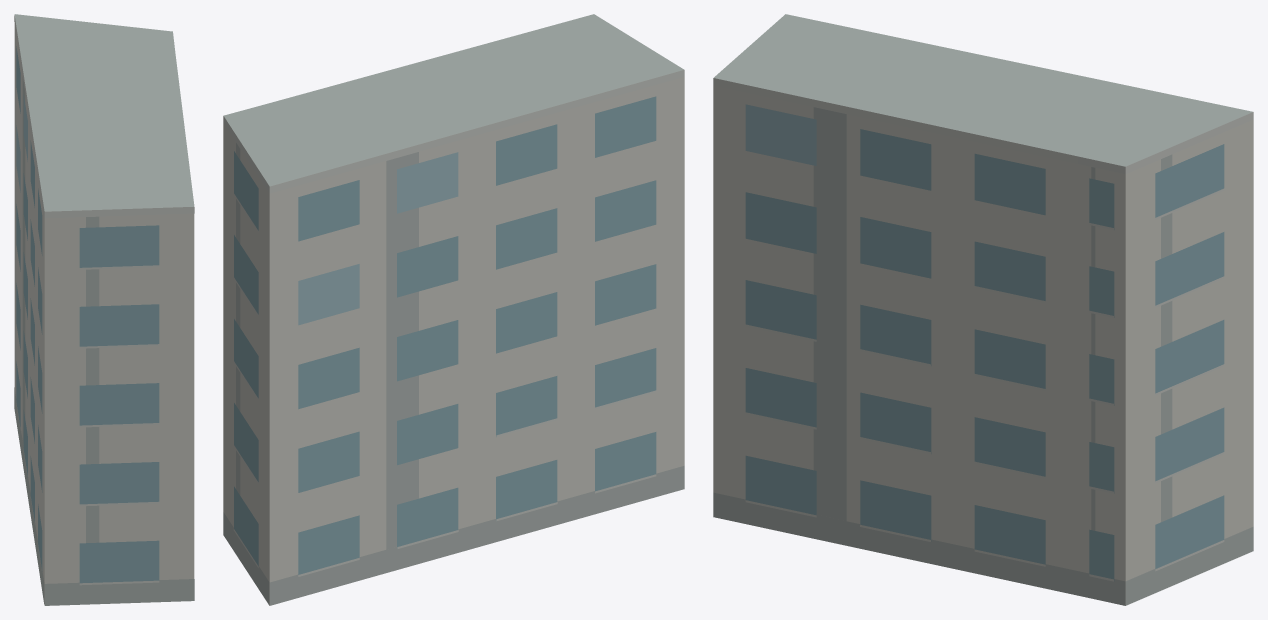
File: survey-upis-32726281.glb
The picture shows the model from 3 angles, left to right: view 1: azimuth 30°, elevation 25°; view 2: azimuth 150°, elevation 25°; view 3: azimuth 270°, elevation 25°; orthographic projection. The views are drawn at different scales.
Parts seen in each view (by area): view 1: survey-upis-32726281.tmp; view 2: survey-upis-32726281.tmp; view 3: survey-upis-32726281.tmp.
Boxes of the visible parts, x1=… form: survey-upis-32726281.tmp: x1=14, y1=14, x2=194, y2=605; survey-upis-32726281.tmp: x1=223, y1=14, x2=684, y2=605; survey-upis-32726281.tmp: x1=713, y1=14, x2=1253, y2=605.
Size of the model in its own units: 10.53 by 14.1 by 15.73.
